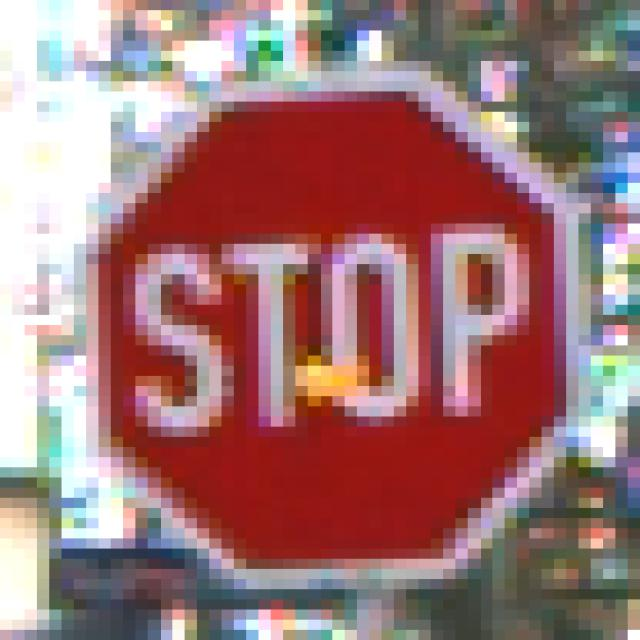STOP: (63, 62, 580, 590)
